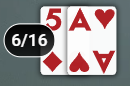5: (43, 7, 65, 32)
a: (68, 7, 93, 34)
